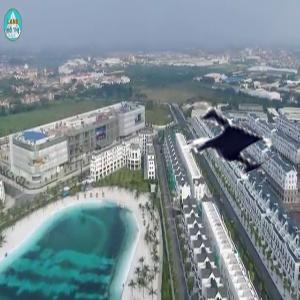drone: (166, 85, 291, 210)
